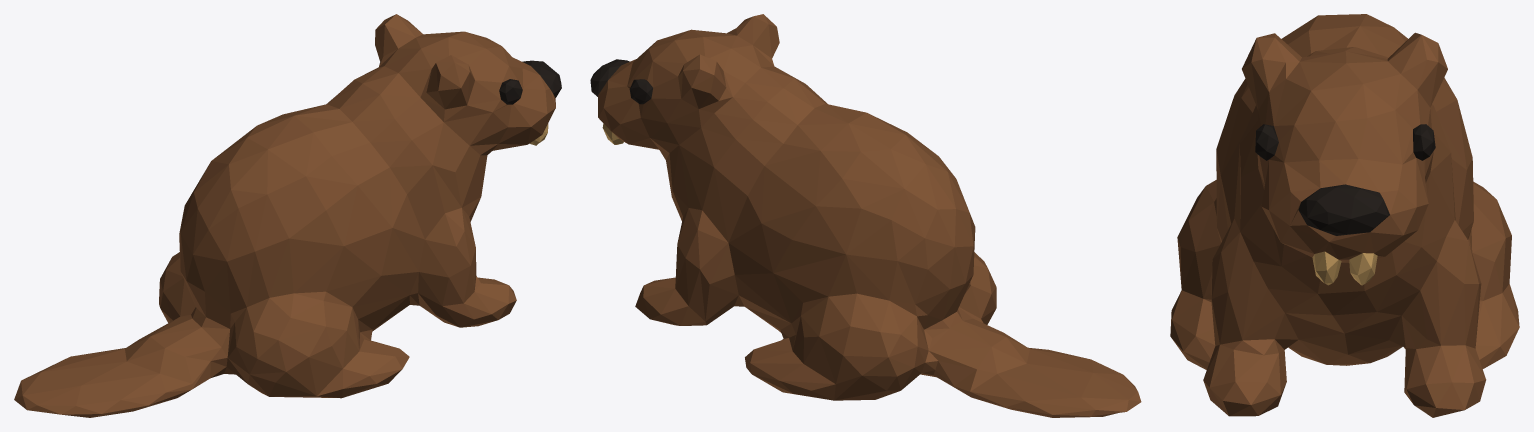
Rendered from NEW_RECOVERY_046_LOD2.glb.
3 renders of one model, left to right at view 1: azimuth 30°, elevation 25°; view 2: azimuth 150°, elevation 25°; view 3: azimuth 270°, elevation 25°, orthographic. The views are drawn at different scales.
Visible parts, largest first — view 1: Beaver solid sculpt; view 2: Beaver solid sculpt; view 3: Beaver solid sculpt.
Boxes of the visible parts, box(x1,y1,x2,y2) form: Beaver solid sculpt: box(14, 14, 561, 417); Beaver solid sculpt: box(590, 14, 1141, 417); Beaver solid sculpt: box(1170, 14, 1519, 417).
Bounding box in the file's own units: 2.9 × 1.51 × 1.2.
